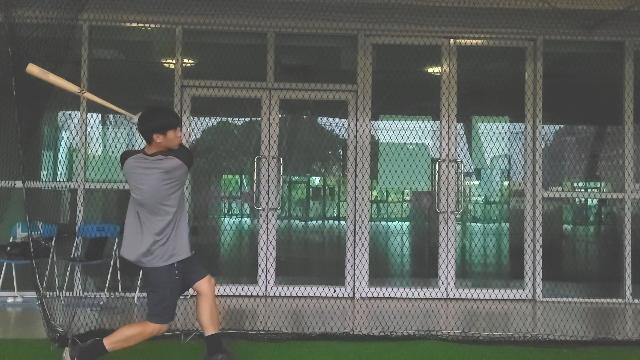bat: (26, 62, 136, 120)
